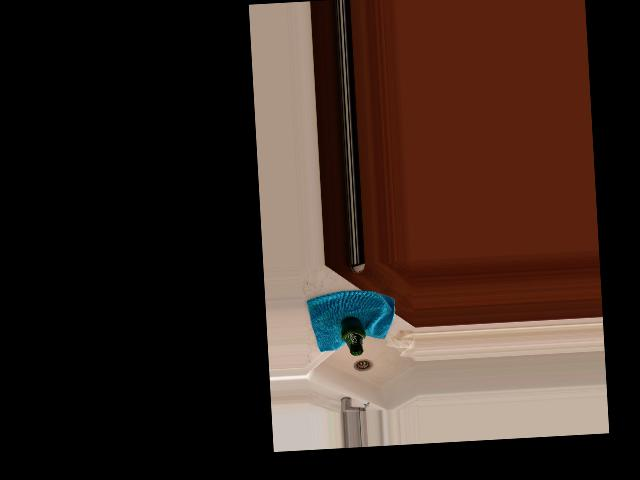beer: (340, 315, 367, 355)
